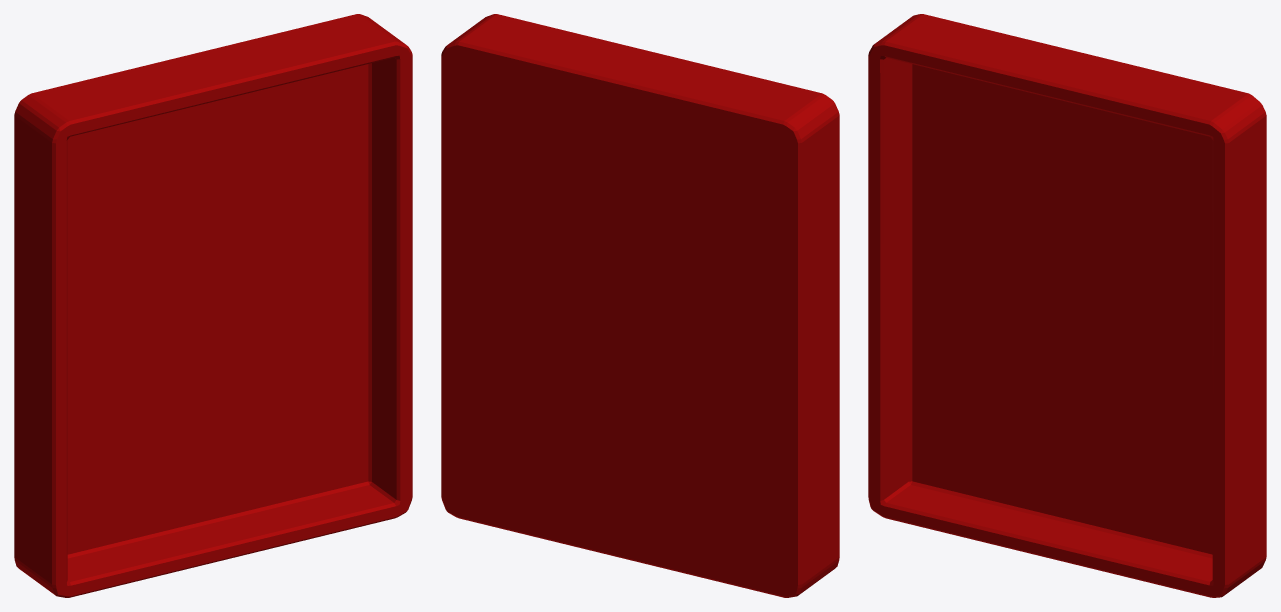
Rendered from ELECTRIC_BOX_BACK.fbx.
3 renders of one model, left to right at view 1: azimuth 30°, elevation 25°; view 2: azimuth 150°, elevation 25°; view 3: azimuth 330°, elevation 25°, orthographic.
Parts seen in each view (by area): view 1: polySurface181; view 2: polySurface181; view 3: polySurface181.
Part boxes in pixels (x1,y1,x2,y2): polySurface181: (14, 14, 412, 597); polySurface181: (441, 14, 839, 597); polySurface181: (868, 14, 1266, 597).
Bounding box in the file's own units: 79.13 × 100 × 15.43.
